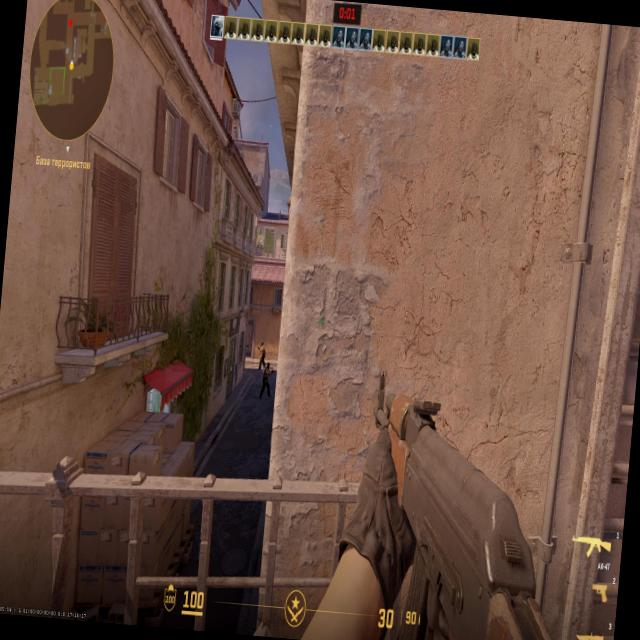T: (262, 363, 272, 398), (258, 340, 265, 368)
T_heat: (260, 342, 263, 350), (266, 363, 269, 370)
